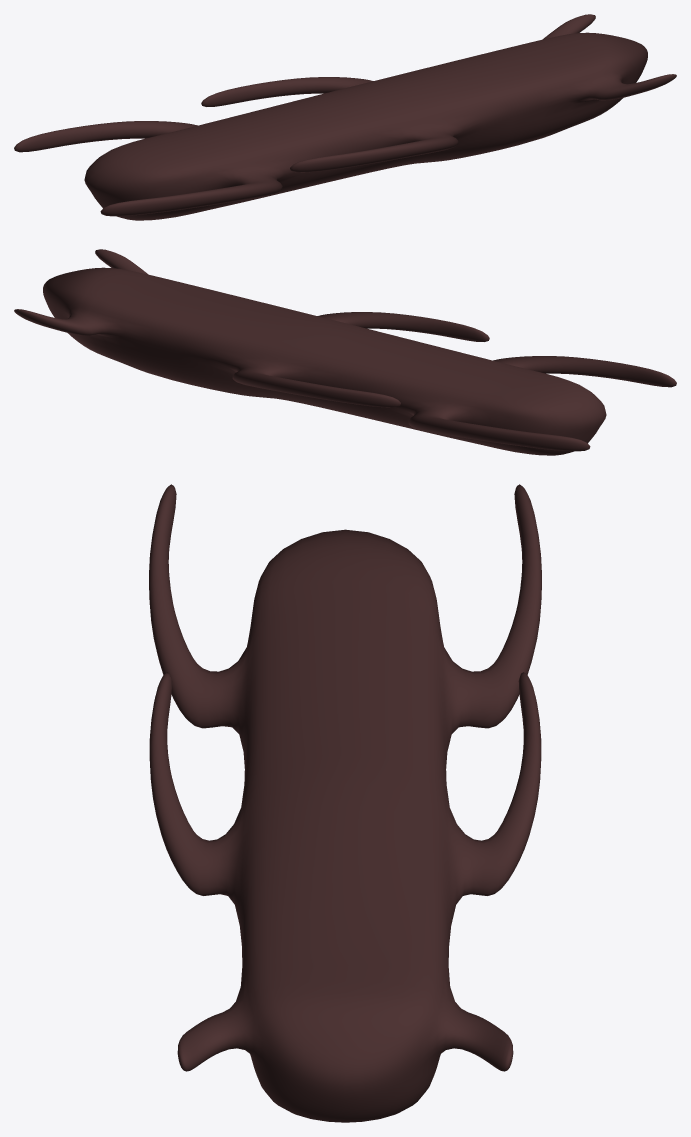
File: stretchycockroach.fbx
The picture shows the model from 3 angles, top to bottom: view 1: azimuth 30°, elevation 25°; view 2: azimuth 150°, elevation 25°; view 3: azimuth 270°, elevation 25°; orthographic projection. The views are drawn at different scales.
Visible parts, largest first — view 1: pCube3; view 2: pCube3; view 3: pCube3.
Boxes of the visible parts, bbox=[...] form: pCube3: bbox=[14, 14, 676, 220]; pCube3: bbox=[14, 249, 676, 455]; pCube3: bbox=[149, 484, 541, 1122].
Size of the model in its own units: 3.23 by 0.4196 by 0.9348.
